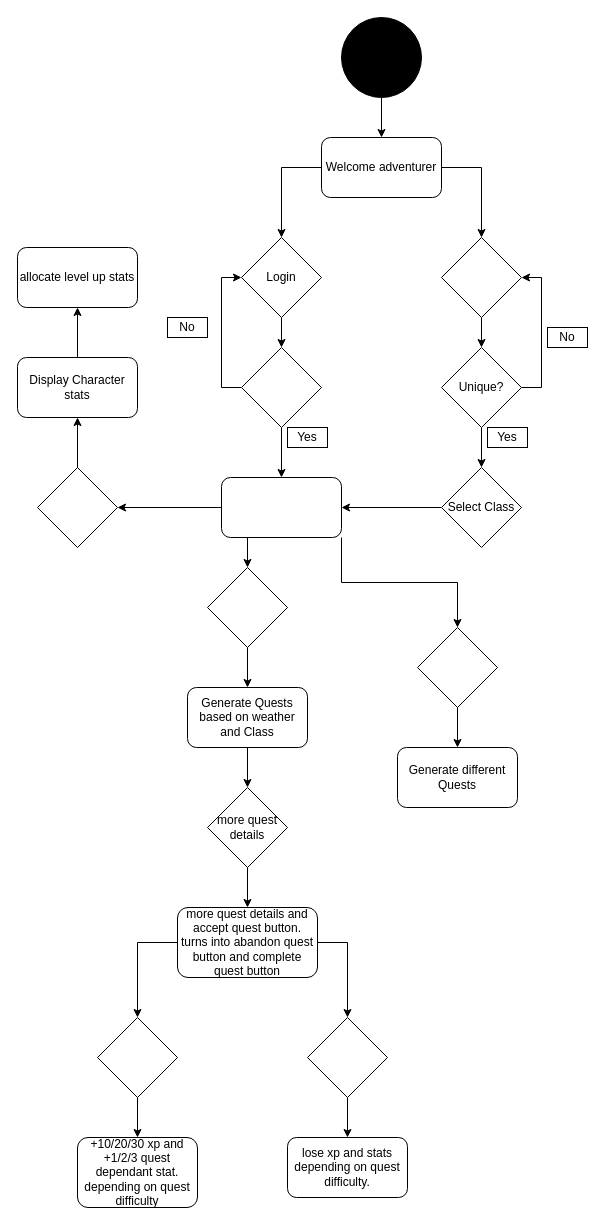
The diagram is 605 pixels wide and 1226 high, and some of its shapes have lost their labels. Each missing label, with the centre of its shape:
abandon quest: (347,1057)
complete quest: (137,1057)
Main Menu: (281,507)
Quests: (247,607)
Register: (481,277)
Status: (77,507)
Switch Class: (457,667)
Valid?: (281,387)
